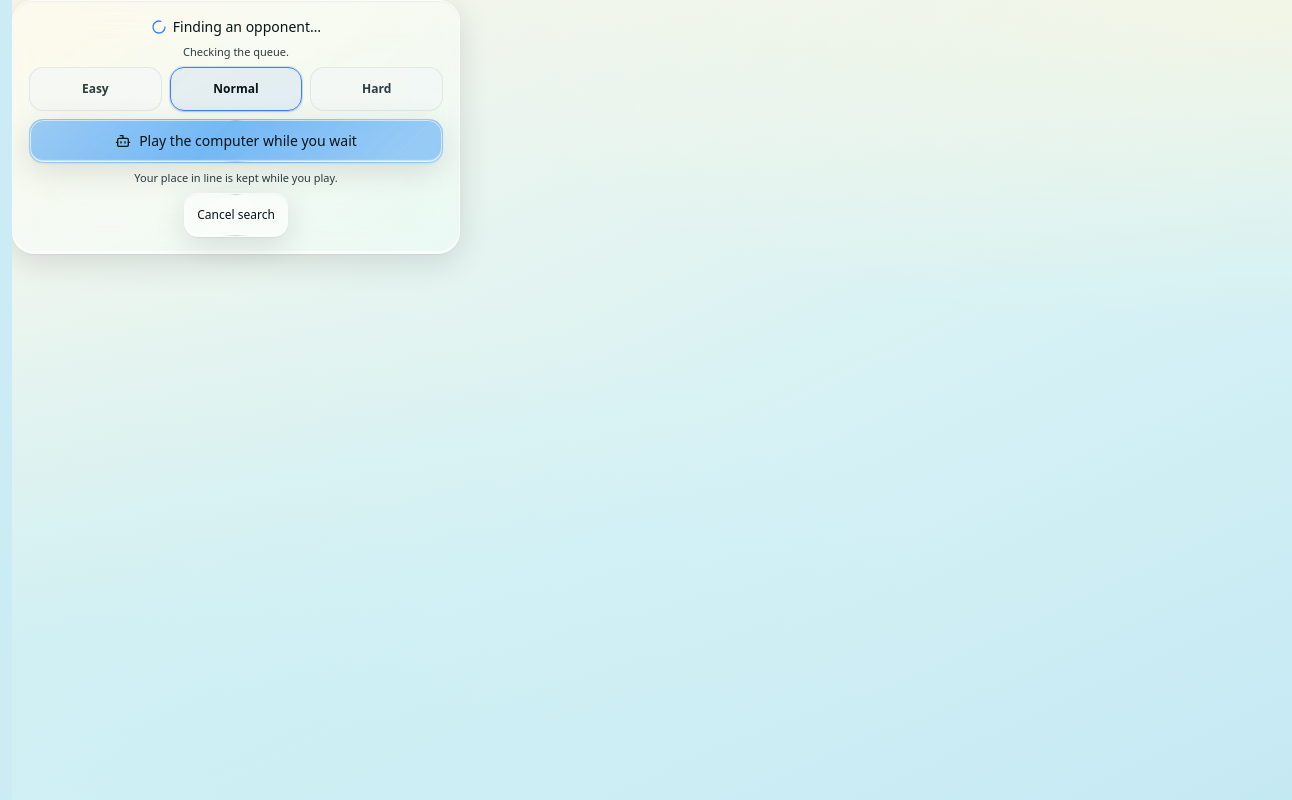
OnlineGameSurface play while you wait › ending the computer game returns to the search card, still queued
What coordinates should you click on to do the following:
click the button "Play the computer while you wait"
I would click on:
 (236, 141)
Its box is [29,119,443,163].
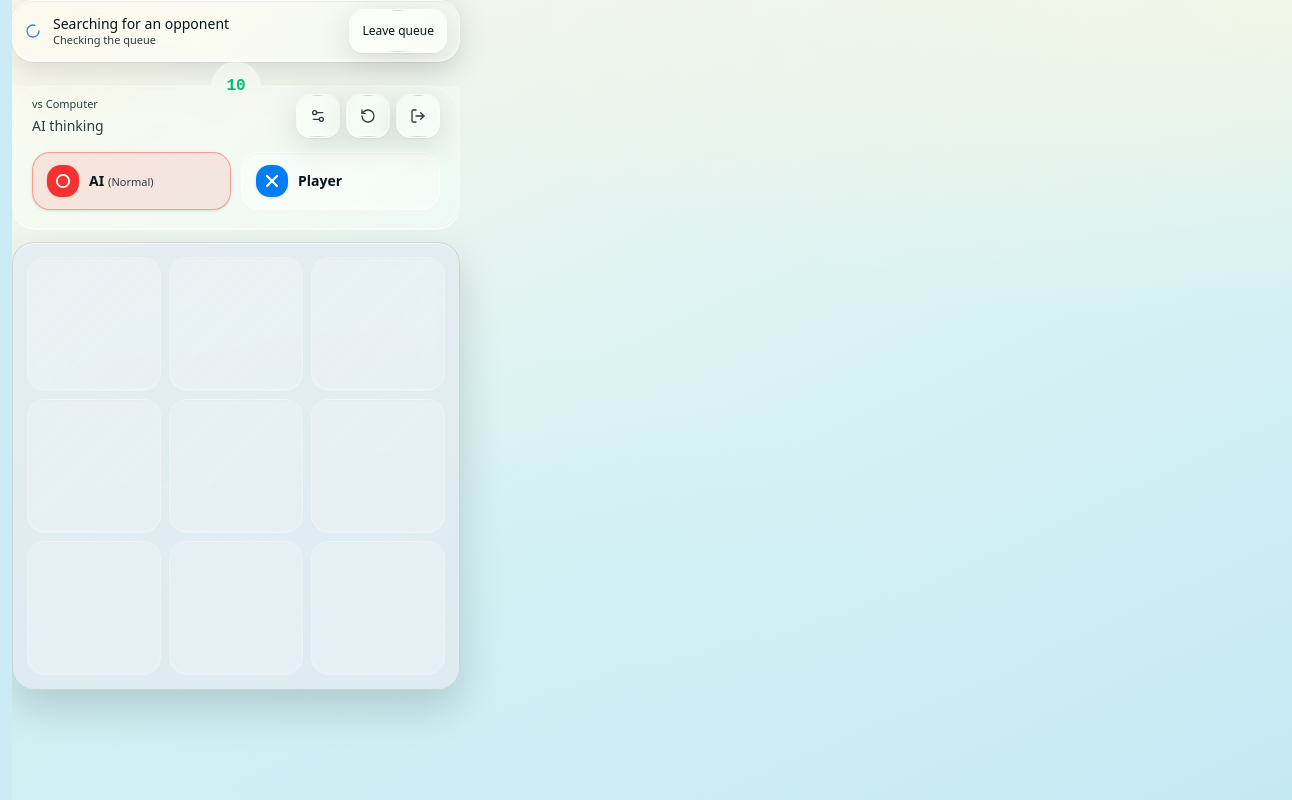
What coordinates should you click on to do the following:
click the button named "Exit game"
I would click on:
 (418, 116)
Its box is [396,94,440,138].
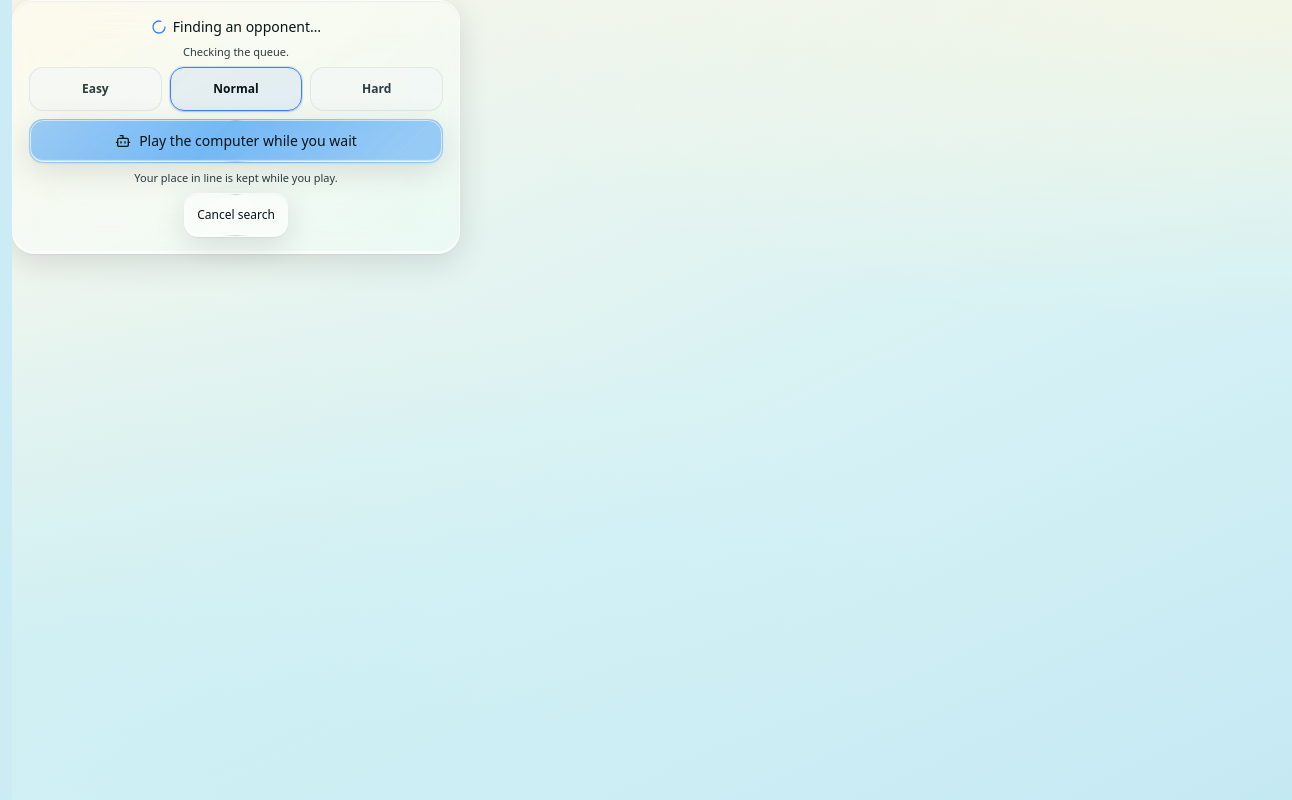
Result: the button "Play the computer while you wait" is shown at [29,119,443,163]
Result: the button "Leave queue" is gone
